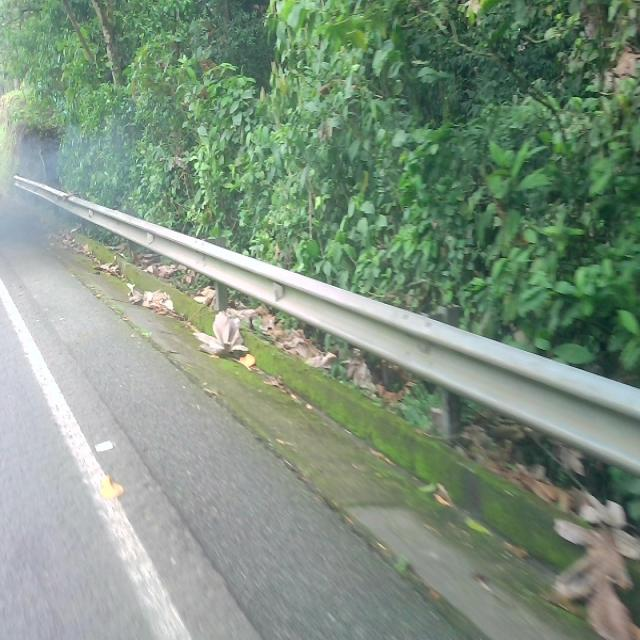DITCH: (1, 125, 638, 638), (3, 126, 638, 638)
